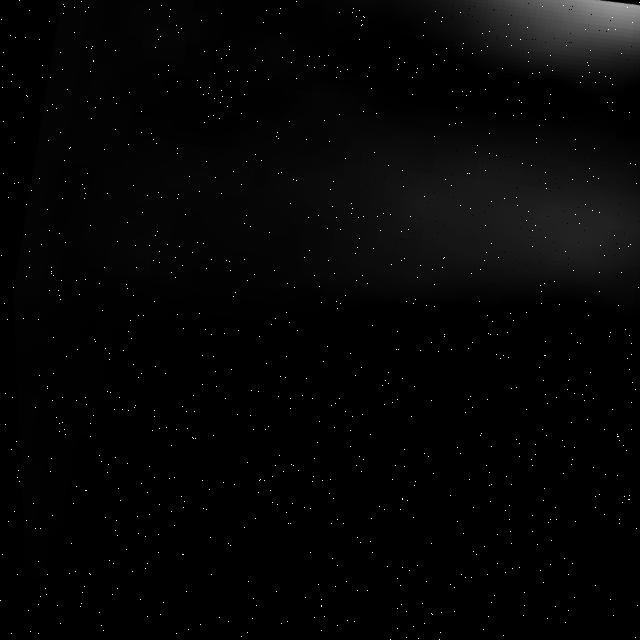person: (151, 65, 640, 406), (381, 1, 640, 104)
